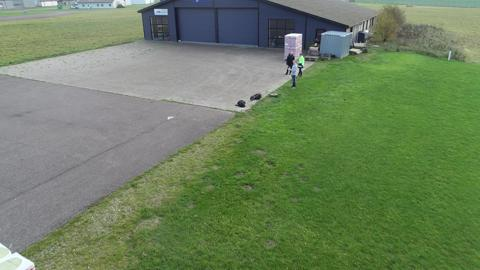RockwoolPallet: (283, 32, 304, 61)
